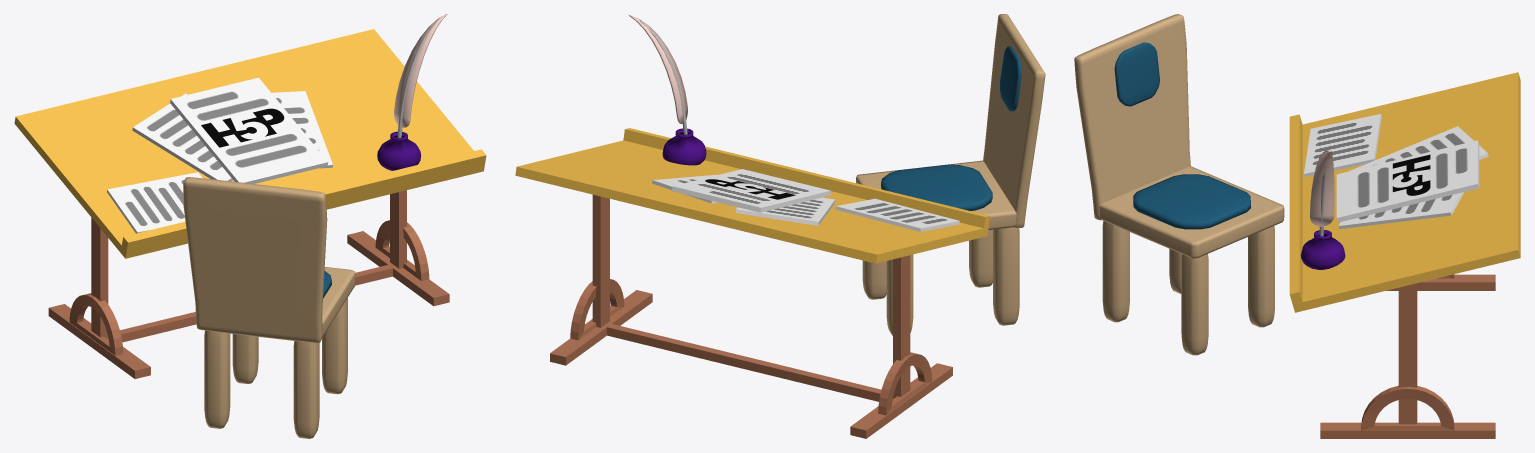
The picture shows the model from 3 angles, left to right: view 1: azimuth 30°, elevation 25°; view 2: azimuth 150°, elevation 25°; view 3: azimuth 270°, elevation 25°; orthographic projection.
Parts seen in each view (by area): view 1: DrawingTable; view 2: DrawingTable; view 3: DrawingTable.
Boxes of the visible parts, bbox=[...] form: DrawingTable: bbox=[14, 14, 486, 438]; DrawingTable: bbox=[515, 14, 1045, 438]; DrawingTable: bbox=[1074, 14, 1520, 438].
Size of the model in its own units: 1.44 by 1.09 by 1.53.
Materials: 3 (3 with a texture image).
